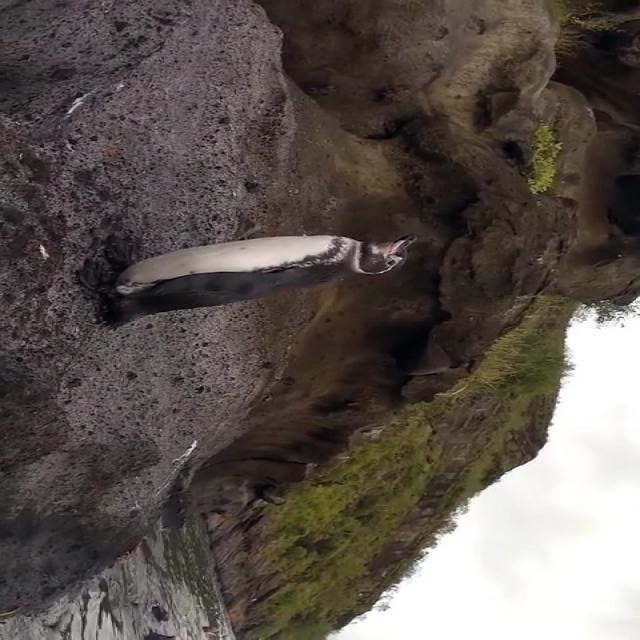penguin: (77, 232, 418, 330)
